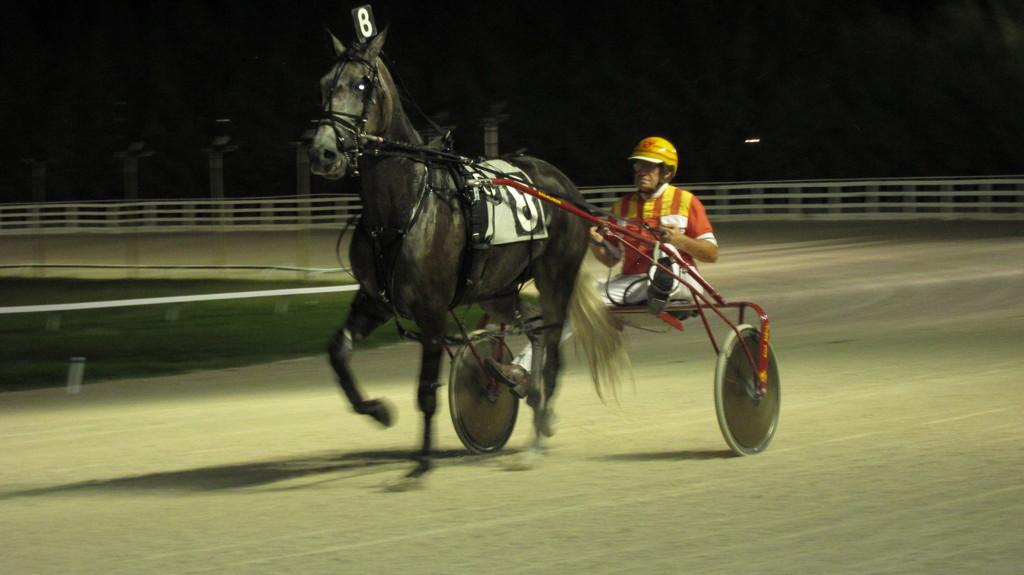horse: (307, 25, 635, 492)
